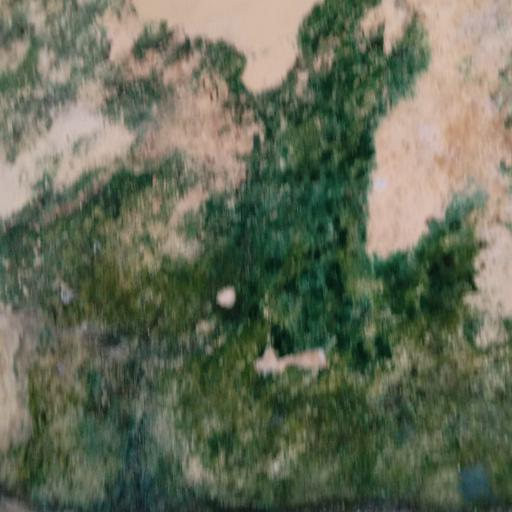algae: (11, 22, 512, 512)
